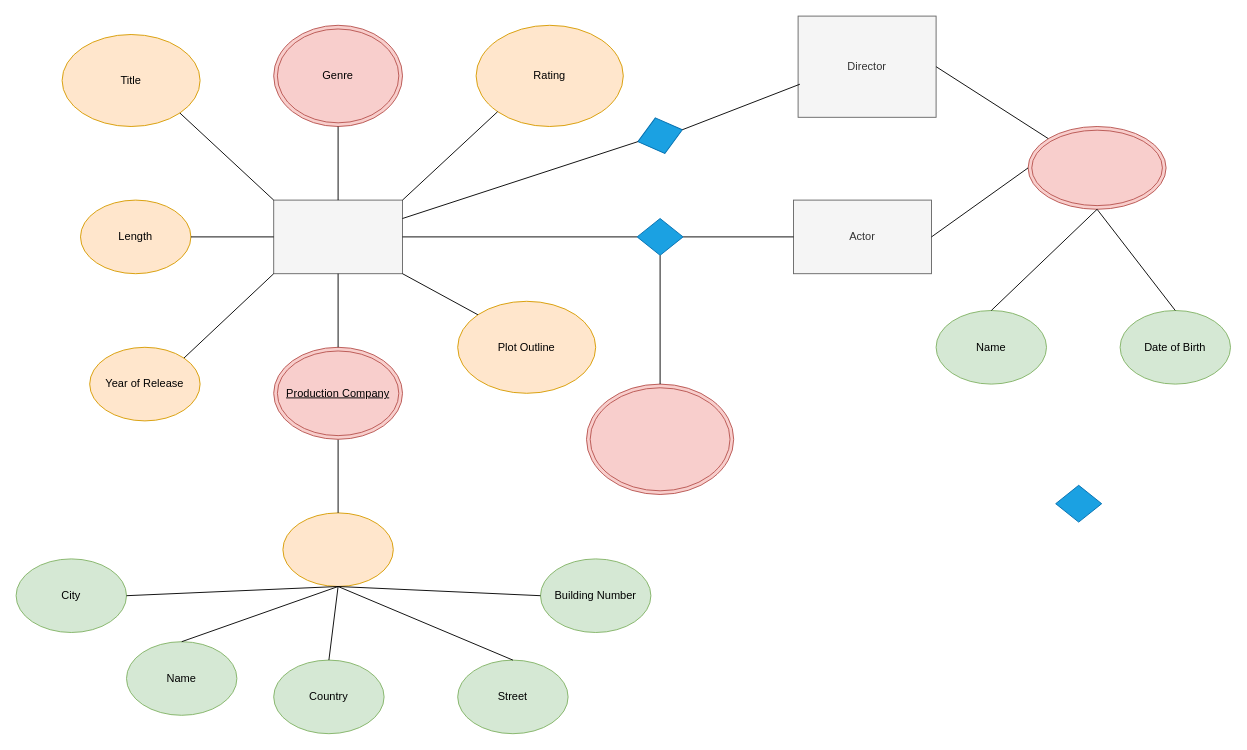
The diagram is 1247 pixels wide and 750 high, and some of its shapes have lost their labels. The shapes that lost their labels are listed below. From the top down, each one's box as (x1, y1, x2, y2) in pixels, then its label:
(1027, 126, 1166, 209): Roles
(273, 199, 402, 274): Movie
(586, 383, 734, 494): Quotes
(282, 512, 393, 586): Address
